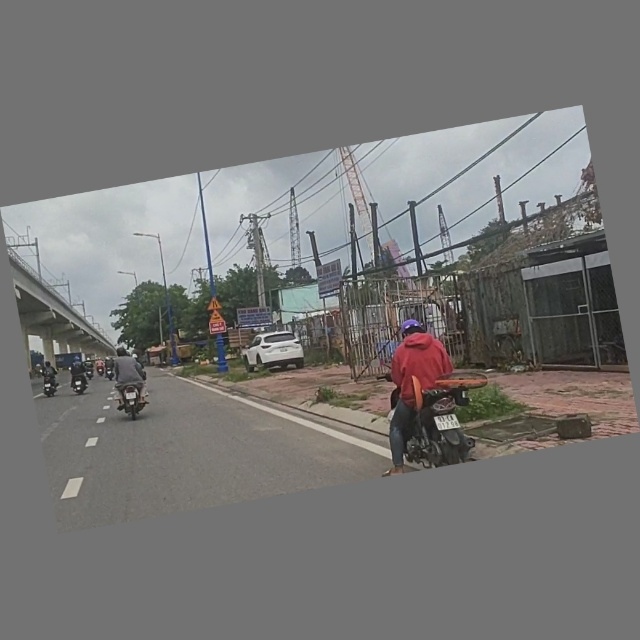W.203c: (205, 295, 224, 312)
W.245a: (207, 309, 225, 324)
